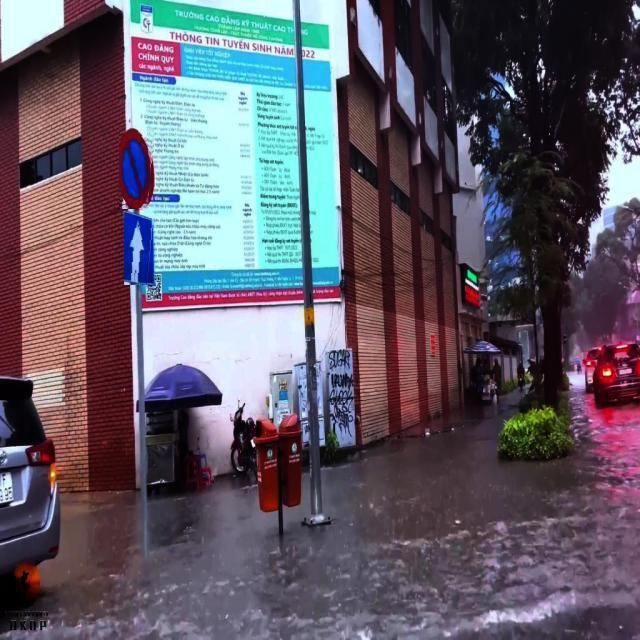131a-cam-do-xe: (115, 128, 151, 210)
407a-duong-mot-chieu: (124, 211, 154, 285)
